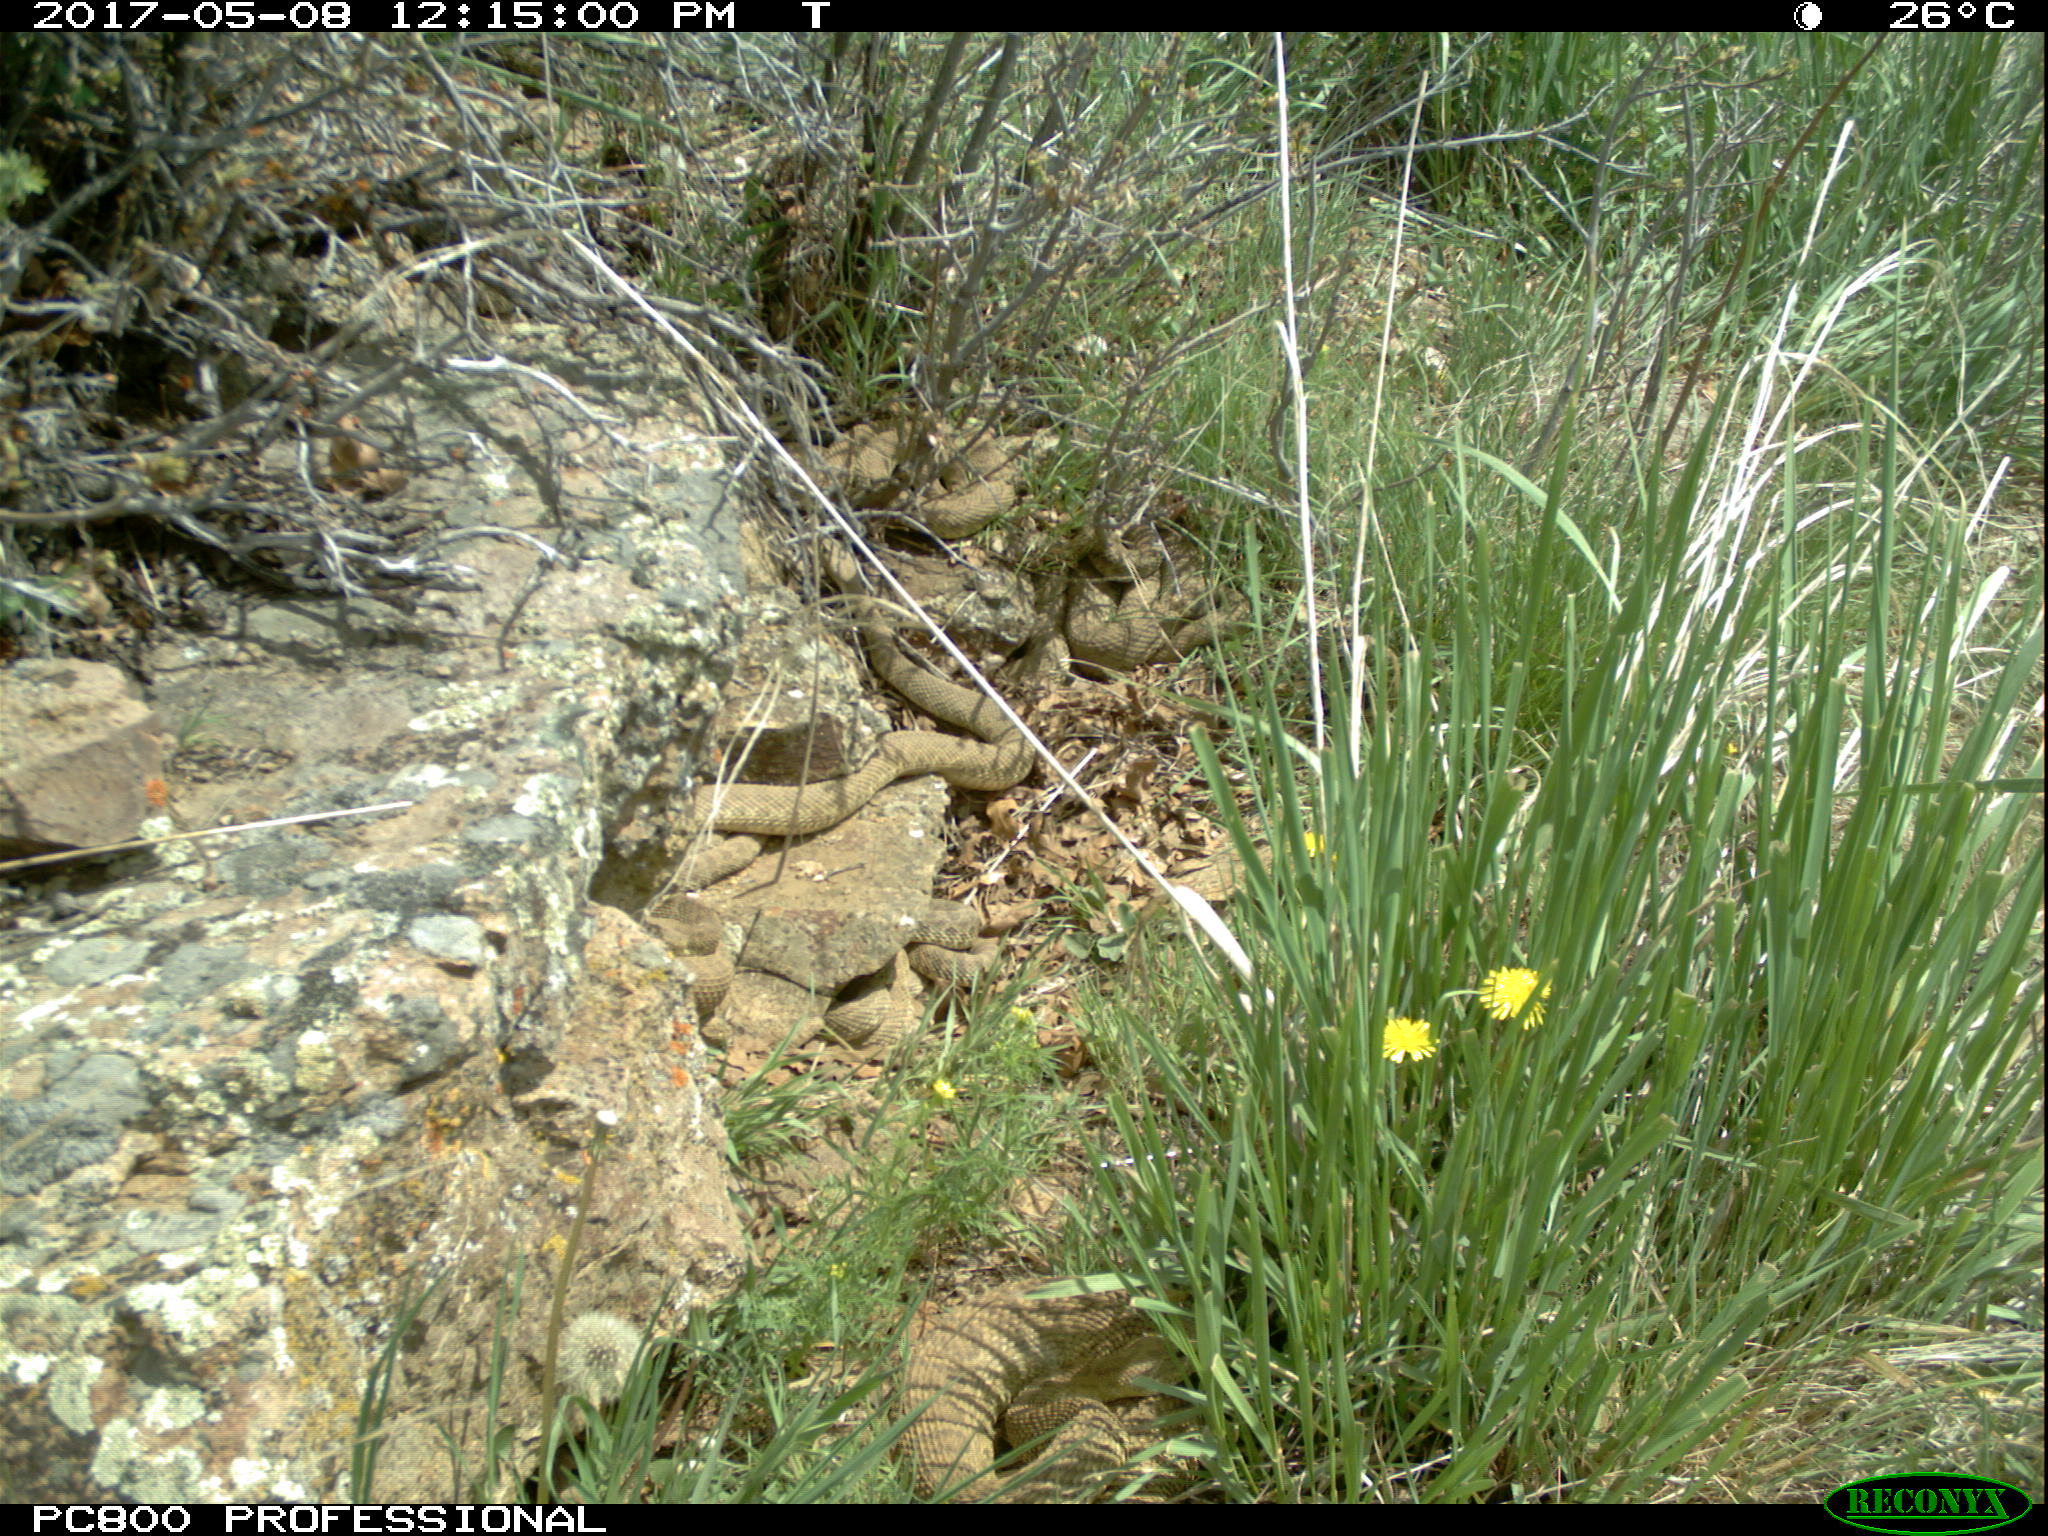snake: (897, 1271, 1192, 1505), (697, 729, 1021, 834), (1056, 521, 1272, 663), (861, 618, 1034, 744), (851, 431, 1034, 532), (648, 899, 747, 1013), (826, 947, 926, 1050), (916, 899, 1003, 984), (661, 836, 764, 899)
